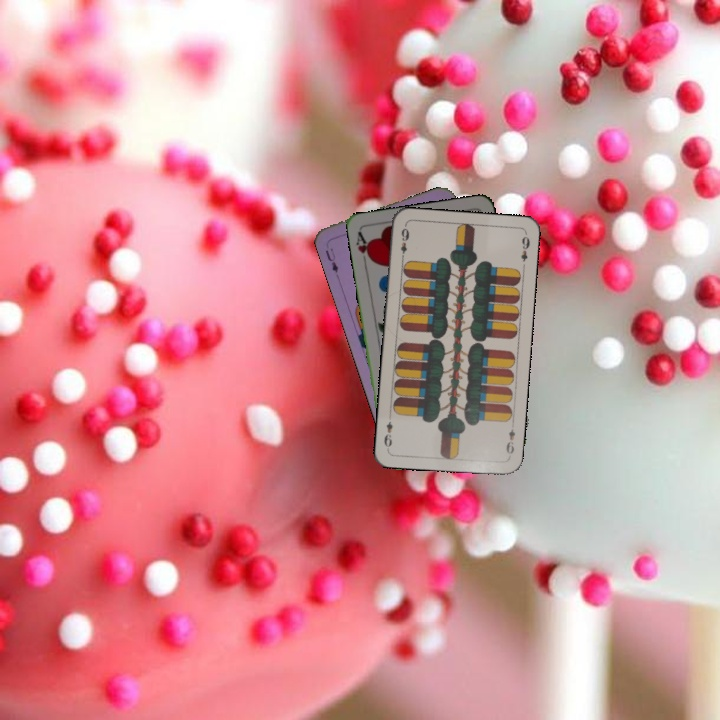E9: (502, 419, 517, 460), (396, 224, 411, 263)
EU: (321, 244, 341, 275)
HA: (352, 228, 375, 268)
